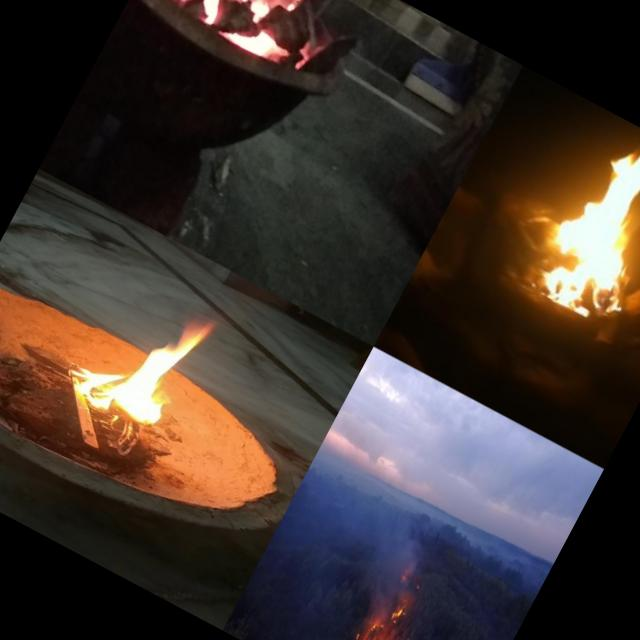fire: (57, 270, 237, 448), (516, 111, 640, 333), (345, 594, 415, 640)
smoke: (350, 514, 434, 622)
